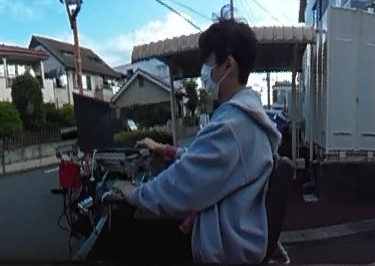person: (83, 20, 275, 265)
